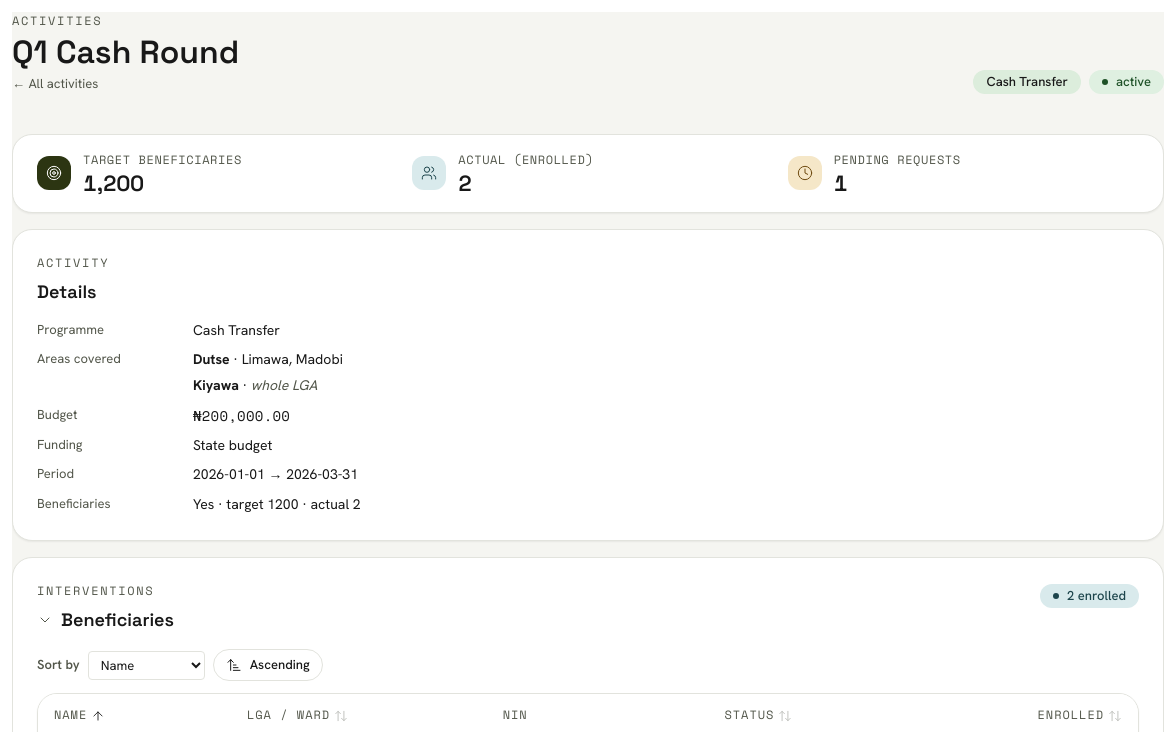
Test: ActivityDetailPage › the beneficiary list › keeps the sort row and the column headers in agreement
Click the button "Enrolled": (1080, 716) [1038,706,1122,725]
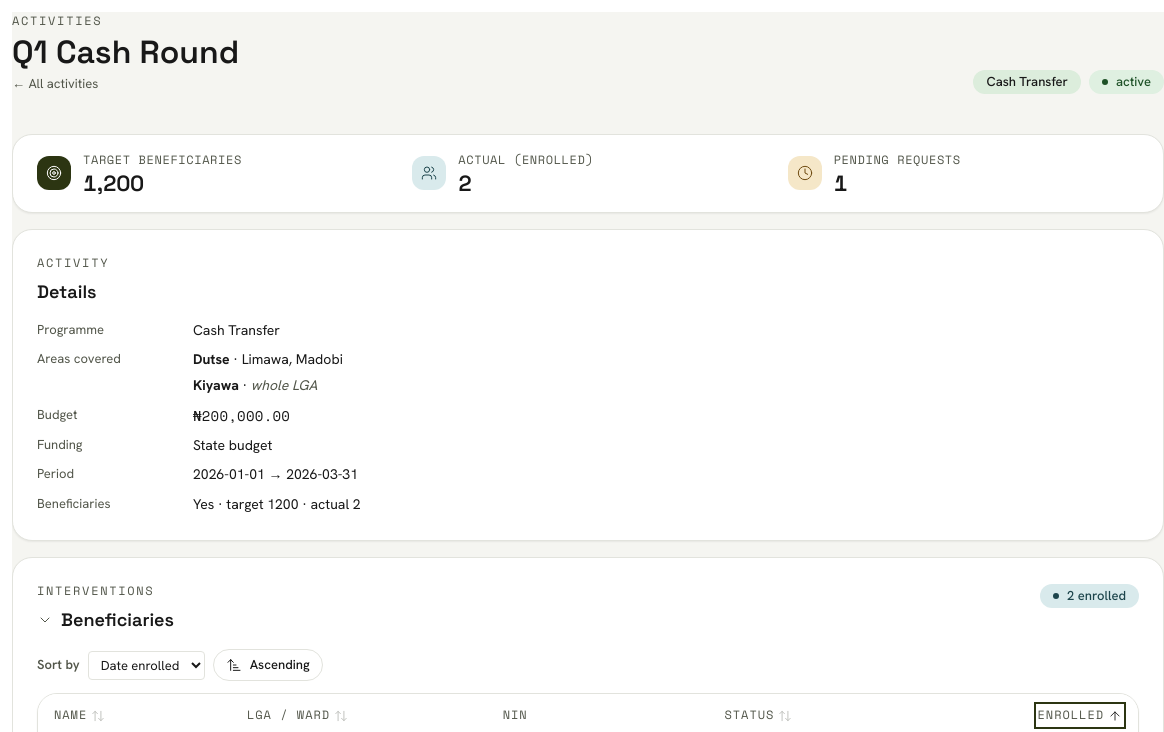
Check: the dropdown labelled "Sort by" shows "Date enrolled", box [88,651,205,680]
